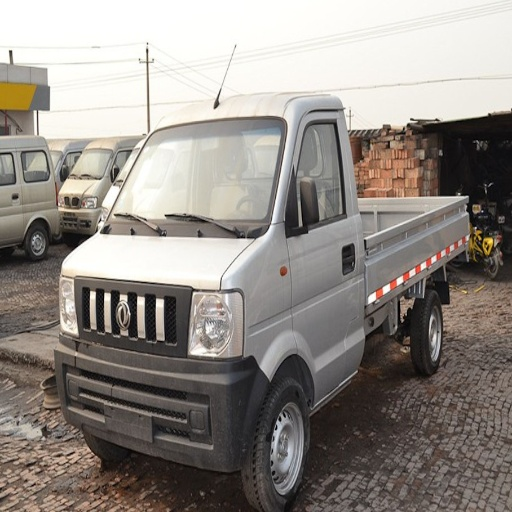front_bumper: (61, 277, 266, 471)
front_glass: (102, 120, 285, 234)
front_left_door: (283, 116, 393, 398)
trunk: (369, 212, 446, 294)
